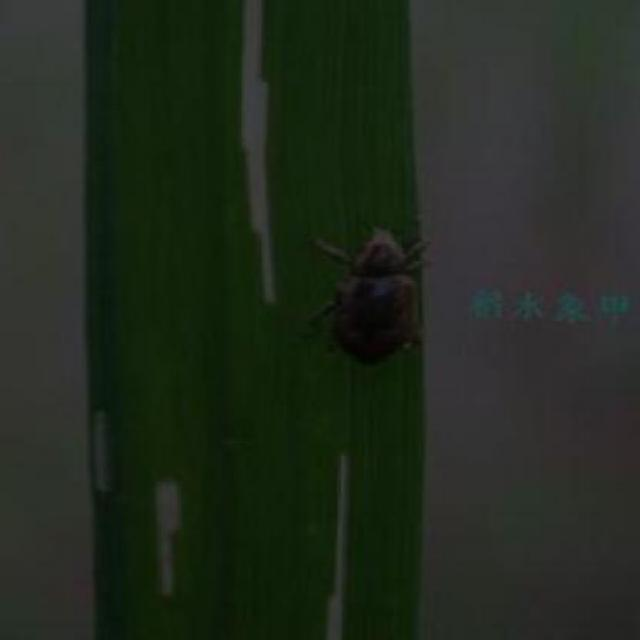rice-bug: (306, 226, 448, 371)
